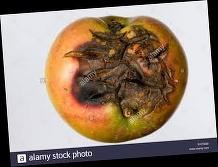rotten apple: (42, 7, 192, 143)
